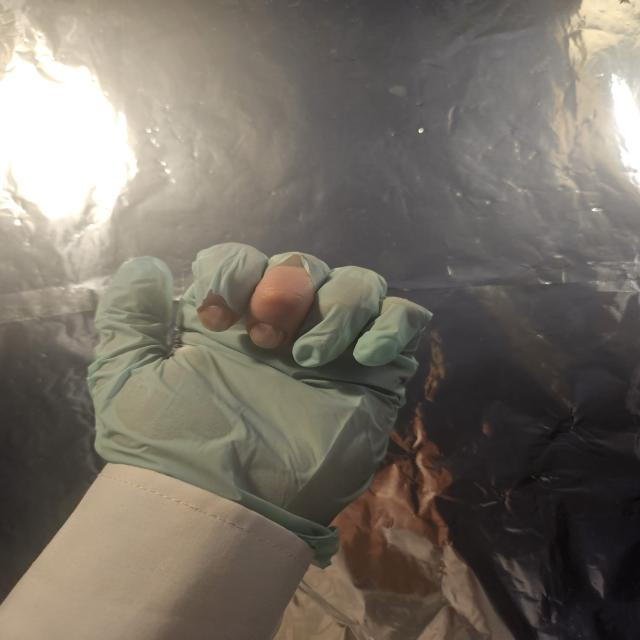gloves_damaged: (84, 239, 437, 569)
